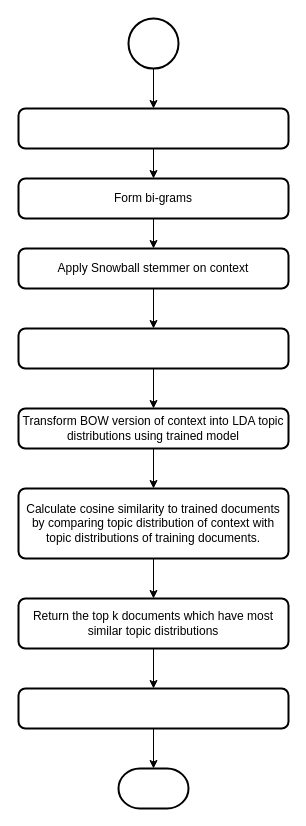
This 306x826 diagram has some shape labels left out. The shapes that lost their labels are listed below. From the top down, each one's centre as x and y in pixels, then its label:
the point at 153,128: Remove stop words from unseen test context
the point at 153,348: Convert words in context into BOW vectors using training dictionary
the point at 153,708: Get the metadata for the recommended MAG IDs from PostgreSQL database
